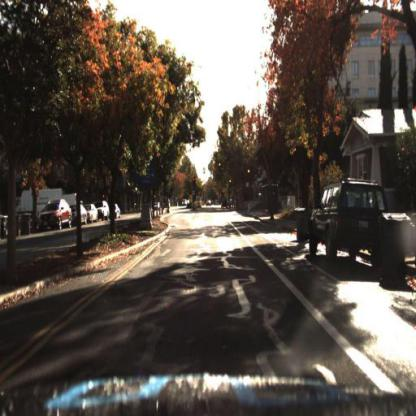car: (310, 172, 387, 259), (39, 193, 71, 231), (68, 204, 90, 228), (74, 203, 86, 226), (98, 200, 110, 223), (88, 203, 100, 224), (111, 202, 123, 222), (86, 203, 97, 224), (100, 199, 109, 222), (115, 202, 123, 219), (153, 198, 162, 211)
trafficLight: (217, 155, 224, 171)
trafficLight-Red: (228, 174, 235, 190), (246, 164, 252, 182)
trafficLight-RedLeft: (191, 176, 199, 193)
trafficLight-Yellow: (245, 167, 252, 179), (227, 176, 234, 184)
truck: (16, 189, 65, 221), (17, 186, 63, 211)
